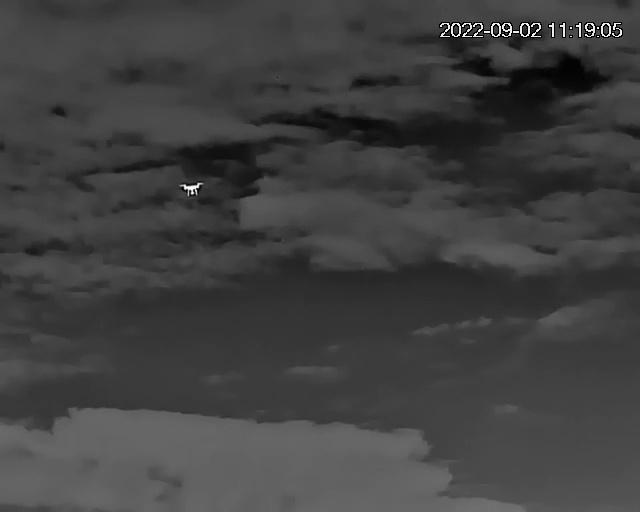DJI-Phantom: (178, 178, 207, 198)
